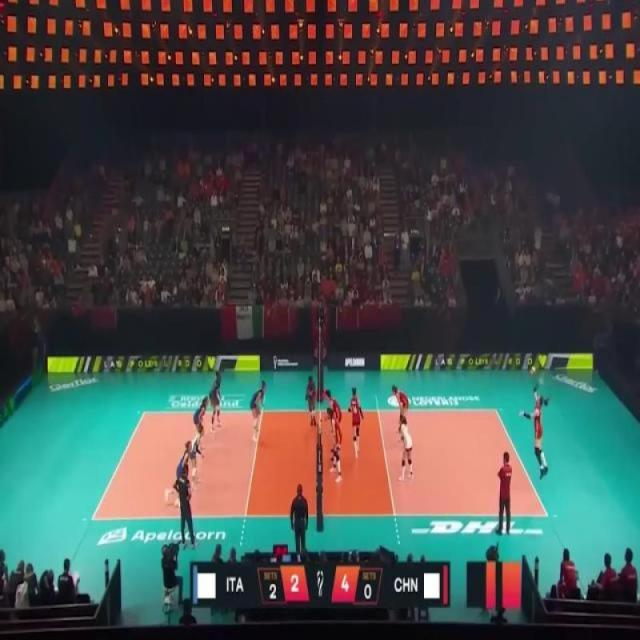volleyball: (530, 365, 536, 376)
